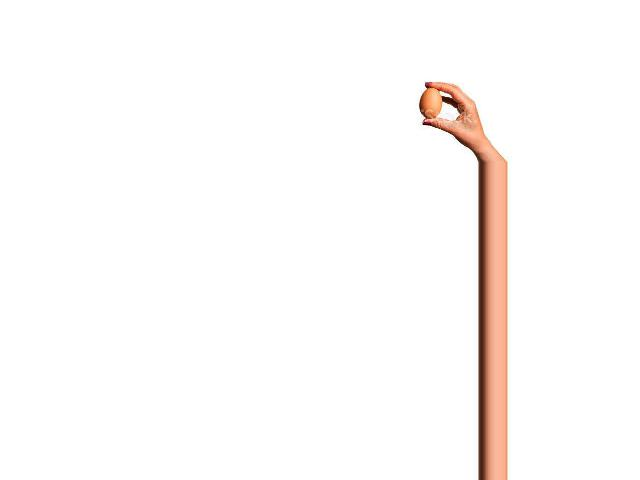egg: (420, 88, 442, 119)
